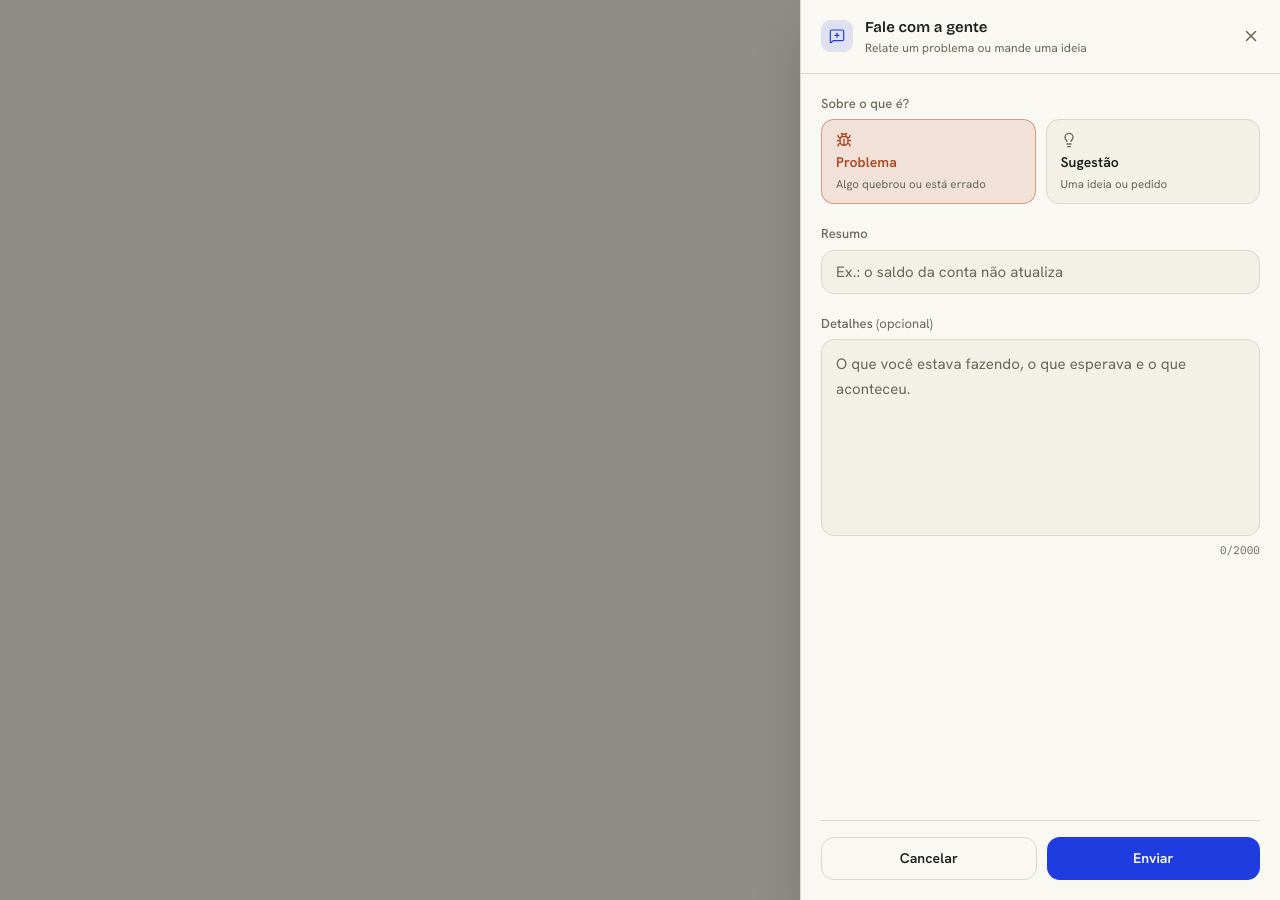
Test case: FeedbackDrawer › replaces the form with a confirmation once it lands
Type "O saldo não atualiza" into the field labelled "Resumo" at (1040, 272), box left=821, top=250, right=1260, bottom=294
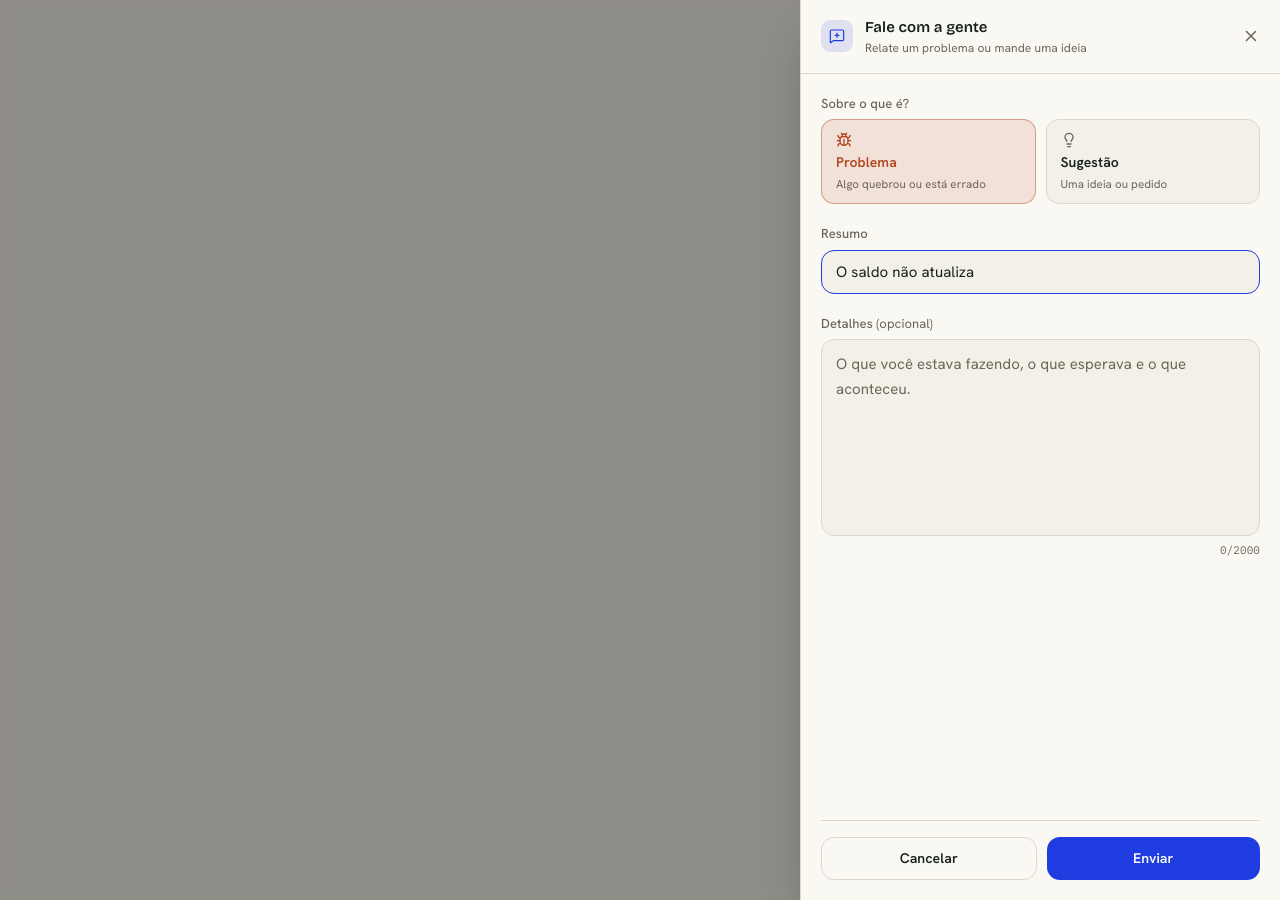
Click the button "Enviar" at (1153, 858), box left=1046, top=837, right=1260, bottom=880
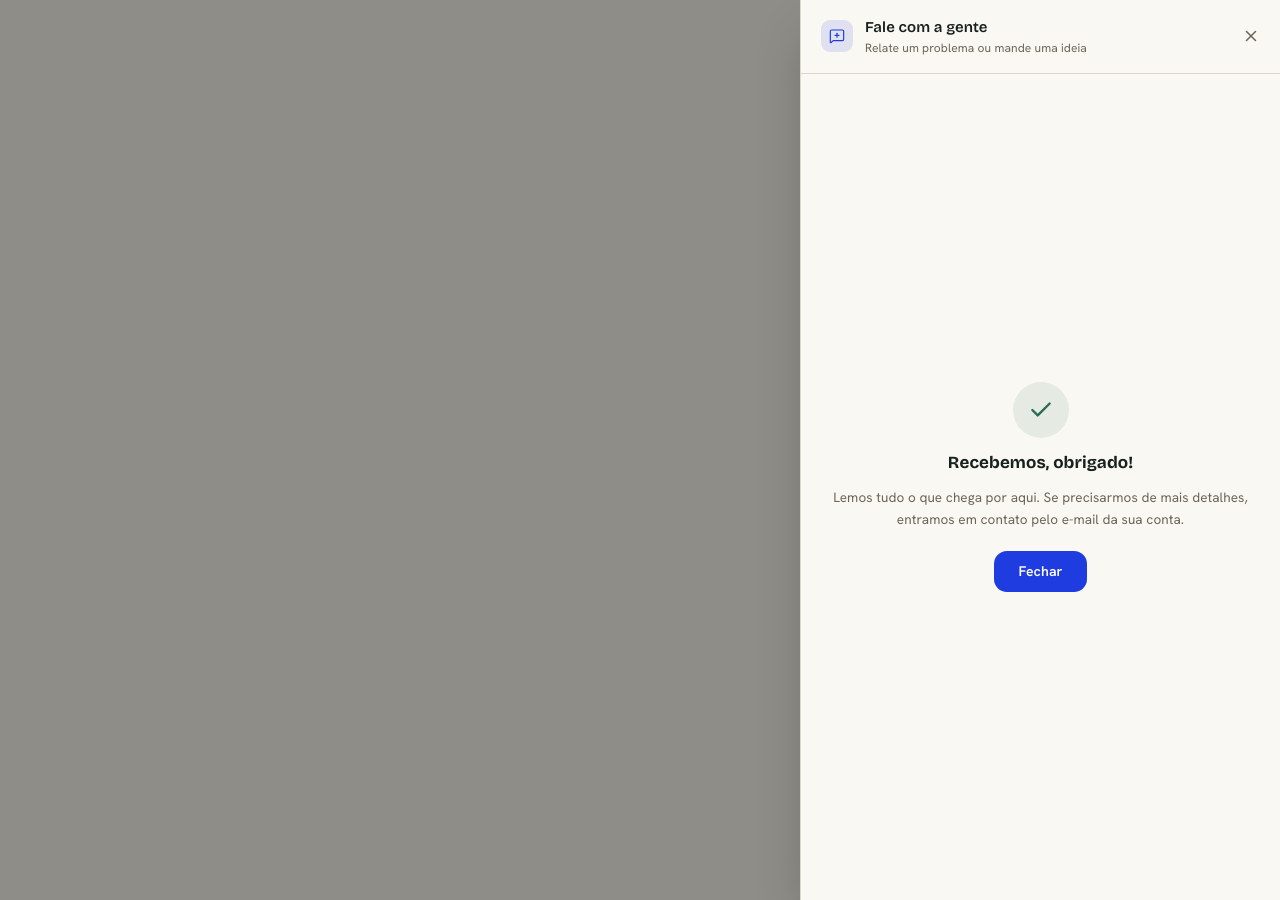
Now the heading "Recebemos, obrigado!" is shown, box left=948, top=450, right=1133, bottom=475
Now the label labelled "Resumo" is gone
